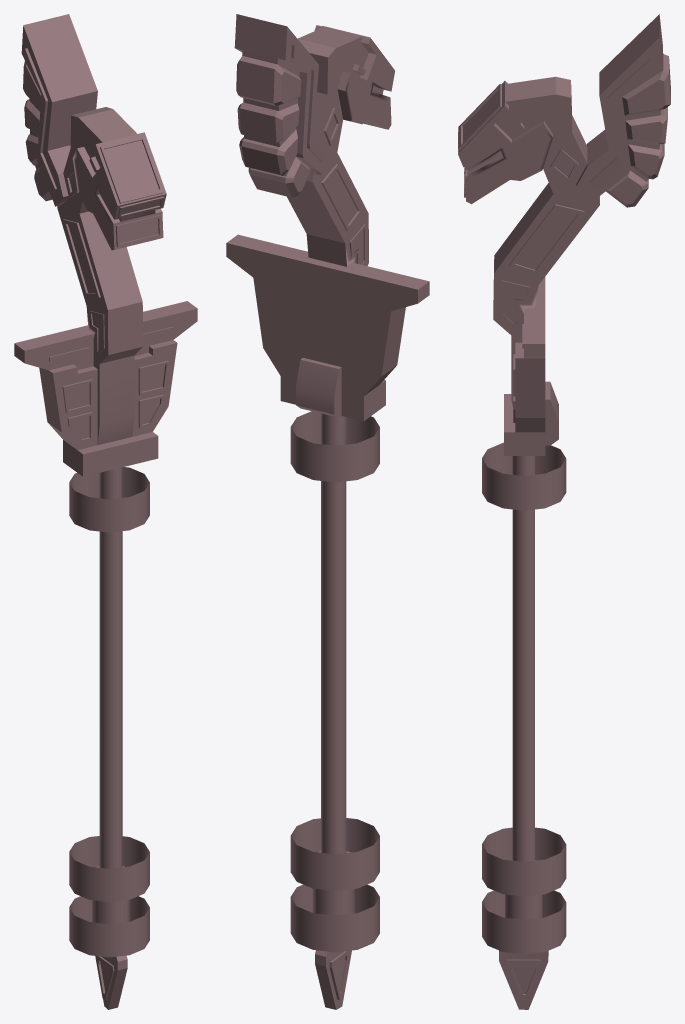
File: shamans_staff1wing_texture.fbx
The picture shows the model from 3 angles, left to right: view 1: azimuth 30°, elevation 25°; view 2: azimuth 150°, elevation 25°; view 3: azimuth 270°, elevation 25°; orthographic projection. The views are drawn at different scales.
Parts seen in each view (by area): view 1: staff_body1, light_decor_round1, staff_stick1, light_decor_squad1; view 2: staff_body1, light_decor_round1, staff_stick1, light_decor_squad1; view 3: staff_body1, light_decor_round1, staff_stick1, light_decor_squad1.
Boxes of the visible parts, left/top/right/bottom form: staff_body1: left=14, top=14, right=197, bottom=476; light_decor_round1: left=69, top=467, right=149, bottom=957; staff_stick1: left=92, top=467, right=130, bottom=1009; light_decor_squad1: left=23, top=48, right=173, bottom=1000; staff_body1: left=226, top=14, right=429, bottom=421; light_decor_round1: left=290, top=411, right=379, bottom=952; staff_stick1: left=312, top=413, right=354, bottom=1009; light_decor_squad1: left=236, top=26, right=378, bottom=999; staff_body1: left=459, top=14, right=663, bottom=455; light_decor_round1: left=482, top=442, right=566, bottom=954; staff_stick1: left=499, top=456, right=548, bottom=1009; light_decor_squad1: left=458, top=54, right=670, bottom=1000.
Bounding box in the file's own units: 0.3538 × 1.83 × 0.3606.
